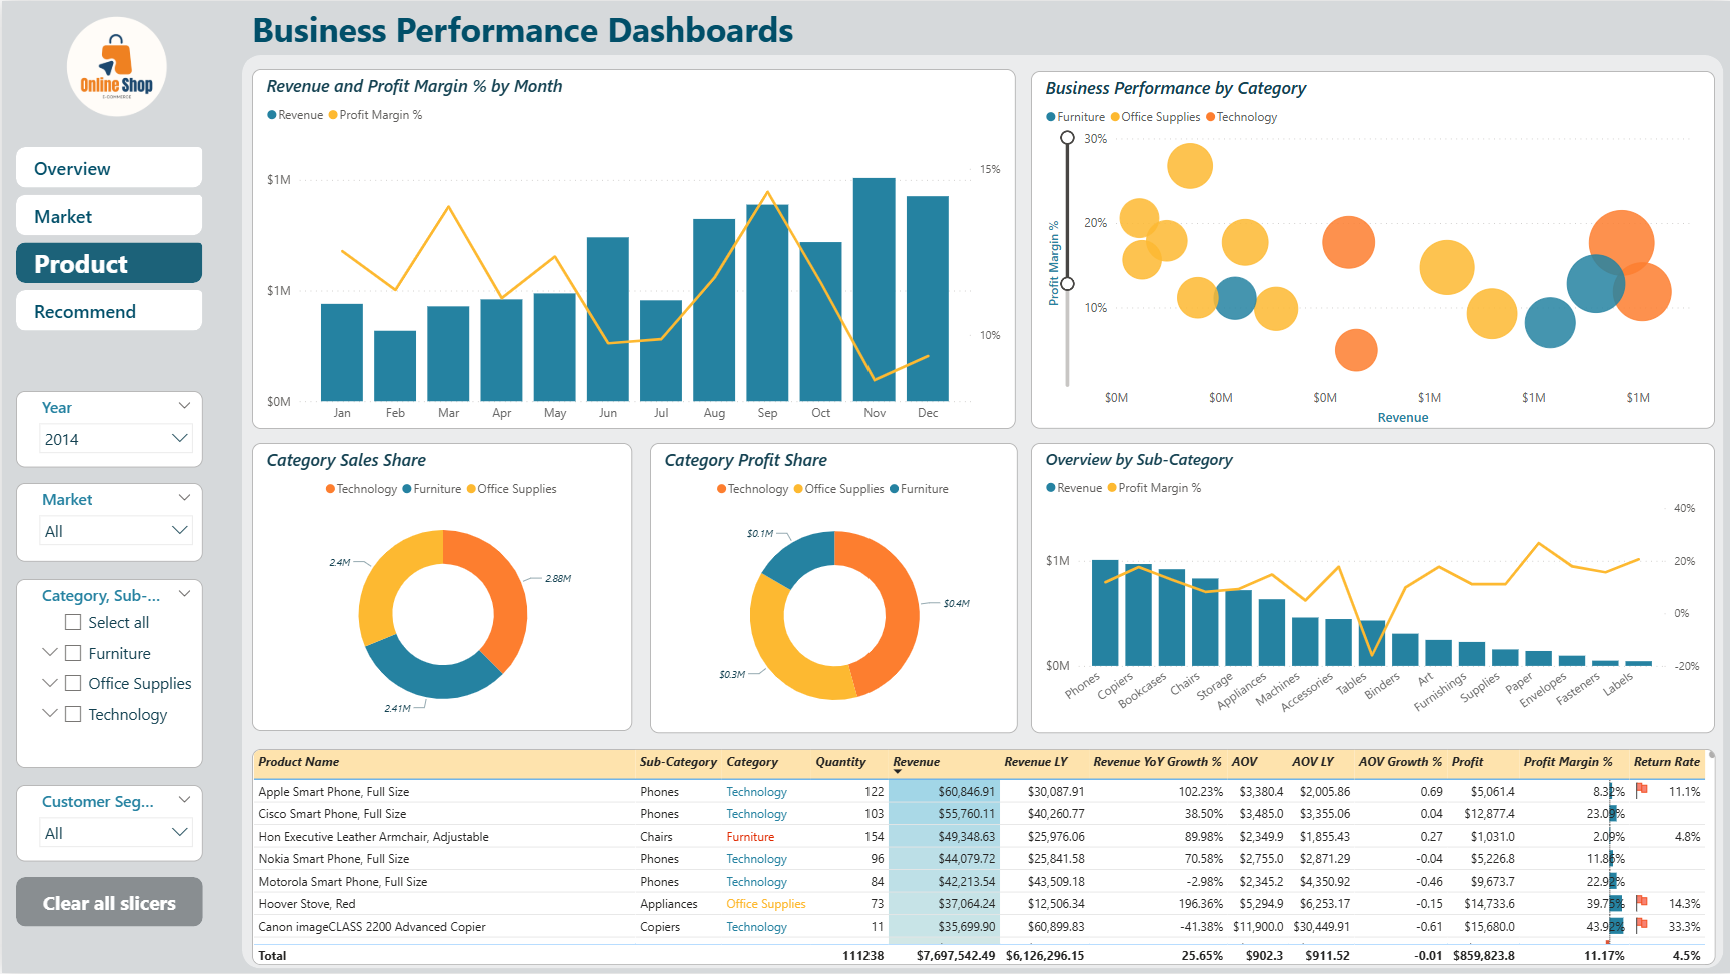

This screenshot's page, from the dashboard's own definition file:
{"tool":"powerbi","page":{"name":"Product","canvas":[1920,1080],"ordinal":2},"visuals":[{"type":"shape","box":[267.5,60,1645,1015],"z":0},{"type":"donutChart","title":"Category Sales Share","fields":{"Y":["Sum(Fact_Orders.Sales)"],"Category":["Dim_Sub_Category.Category"]},"box":[277.5,490,422.5,320],"z":1000},{"type":"lineClusteredColumnComboChart","title":"Overview by Sub-Category","fields":{"Y":["Measure.Sales"],"Category":["Dim_Sub_Category.Sub-Category"],"Y2":["Measure.Profit Margin %"]},"box":[1142.5,490,760,322.5],"z":2000},{"type":"slicer","fields":{"Values":["Dim_Date.Year"]},"box":[15,432.5,207.5,85],"z":3000},{"type":"slicer","fields":{"Values":["Dim_Sub_Category.Category","Dim_Sub_Category.Sub-Category"]},"box":[15,642.5,207.5,210],"z":4000},{"type":"slicer","fields":{"Values":["Dim_CityRegion.Market"]},"box":[15,535,207.5,87.5],"z":5000},{"type":"scatterChart","title":"Business Performance by Category","fields":{"Category":["Dim_Sub_Category.Sub-Category"],"X":["Measure.Sales"],"Size":["Measure.Profit"],"Series":["Dim_Sub_Category.Category"],"Y":["Measure.Profit Margin %"]},"box":[1142.5,77.5,760,397.5],"z":6000},{"type":"donutChart","title":"Category Profit Share","fields":{"Category":["Dim_Sub_Category.Category"],"Y":["Measure.Profit"]},"box":[720,490,407.5,322.5],"z":7000},{"type":"tableEx","title":" Product by Profit","fields":{"Values":["Dim_Product.Product Name","Dim_Sub_Category.Sub-Category","Dim_Sub_Category.Category","Measure.Quantity","Measure.Sales","Measure.Sales LY","Measure.Sales YoY Growth %","Measure.AOV","Measure.AOV LY","Measure.AOV Growth %","Measure.Profit","Measure.Profit Margin %"]},"box":[277.5,830,1625,240],"z":8000},{"type":"slicer","fields":{"Values":["Dim_Customer_Segment.Segment"]},"box":[15,870,207.5,85],"z":9000},{"type":"lineClusteredColumnComboChart","fields":{"Y":["Measure.Sales"],"Y2":["Measure.Profit Margin %"],"Category":["Dim_Date.Month"]},"box":[277.5,75,847.5,400],"z":10000},{"type":"image","box":[16,8,224,128],"z":11000},{"type":"pageNavigator","box":[15,162.5,207.5,257.5],"z":12000},{"type":"actionButton","box":[15,972.5,207.5,55],"z":13000},{"type":"textbox","box":[257.5,0,641.3,69.1],"z":14000}]}

Visuals, with their boxes on the page's 1920x1080 design canvas (x1, y1, x2, y2). These are canvas units, not pixel positions in the 1730x974 screenshot, which may show the page scaled, cropped or inside an application window:
shape: <box>268,60,1912,1075</box>
"Category Sales Share" donutChart: <box>278,490,700,810</box>
"Overview by Sub-Category" lineClusteredColumnComboChart: <box>1142,490,1902,812</box>
slicer - Dim_Date.Year: <box>15,432,222,518</box>
slicer - Dim_Sub_Category.Category x Dim_Sub_Category.Sub-Category: <box>15,642,222,852</box>
slicer - Dim_CityRegion.Market: <box>15,535,222,622</box>
"Business Performance by Category" scatterChart: <box>1142,78,1902,475</box>
"Category Profit Share" donutChart: <box>720,490,1128,812</box>
" Product by Profit" tableEx: <box>278,830,1902,1070</box>
slicer - Dim_Customer_Segment.Segment: <box>15,870,222,955</box>
lineClusteredColumnComboChart - Measure.Sales x Measure.Profit Margin %: <box>278,75,1125,475</box>
image: <box>16,8,240,136</box>
pageNavigator: <box>15,162,222,420</box>
actionButton: <box>15,972,222,1028</box>
textbox: <box>258,0,899,69</box>
